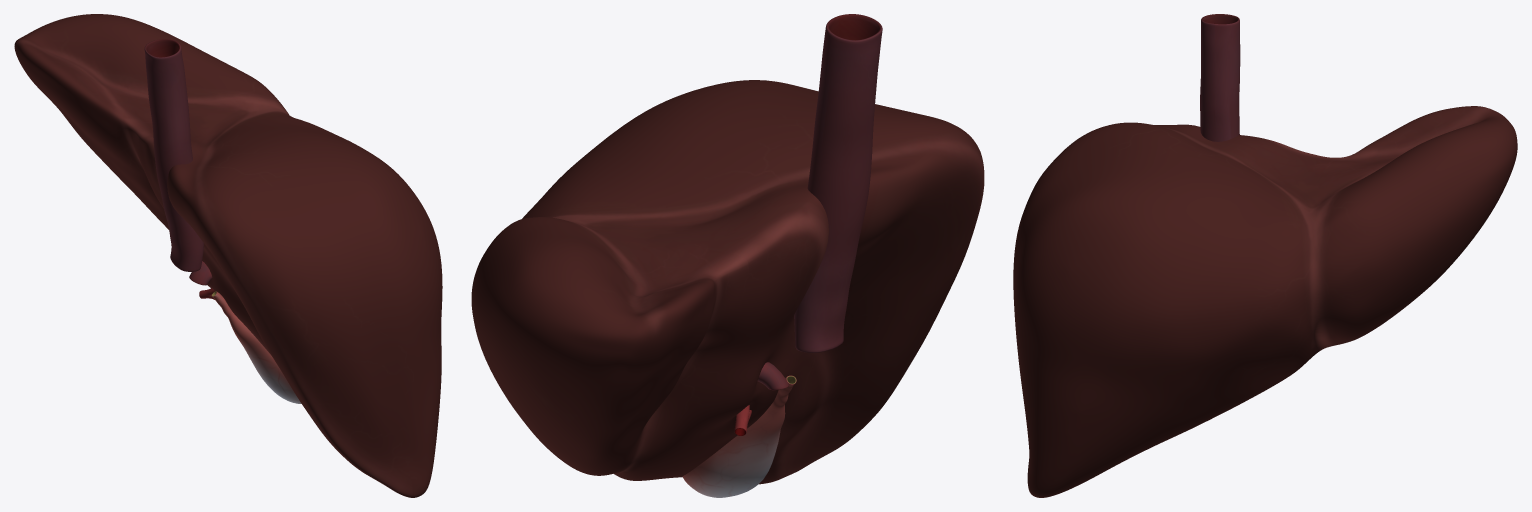
File: liver.glb
The picture shows the model from 3 angles, left to right: view 1: azimuth 30°, elevation 25°; view 2: azimuth 150°, elevation 25°; view 3: azimuth 270°, elevation 25°; orthographic projection. The views are drawn at different scales.
Visible parts, largest first — view 1: liver.001, inferior vena cava.001, gallbladder.002; view 2: liver.001, inferior vena cava.001, gallbladder.002, portal vein.001; view 3: liver.001, inferior vena cava.001.
Part boxes in pixels (left/top/right/bottom): liver.001: left=14, top=14, right=442, bottom=497; inferior vena cava.001: left=144, top=39, right=203, bottom=271; gallbladder.002: left=211, top=291, right=301, bottom=403; liver.001: left=471, top=80, right=984, bottom=484; inferior vena cava.001: left=794, top=14, right=882, bottom=352; gallbladder.002: left=682, top=375, right=796, bottom=497; portal vein.001: left=757, top=362, right=788, bottom=390; liver.001: left=1013, top=106, right=1517, bottom=497; inferior vena cava.001: left=1200, top=14, right=1240, bottom=141.
Bounding box in the file's own units: 0.1362 × 0.2222 × 0.2515.
Materials: 5 (5 with a texture image).
